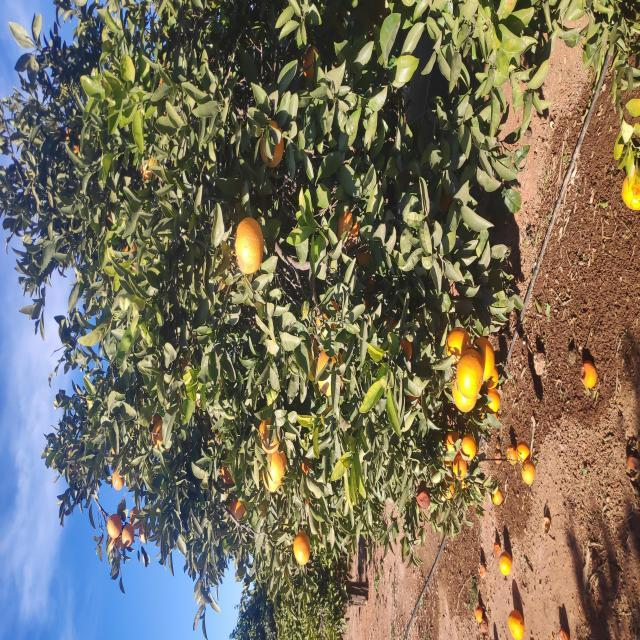Jeruk Sudah Matang: (366, 234, 422, 263), (242, 456, 289, 484), (245, 317, 293, 344), (473, 260, 521, 284), (298, 316, 342, 340), (274, 446, 314, 472), (258, 472, 304, 494), (228, 452, 266, 478), (392, 336, 432, 360), (186, 150, 228, 171), (187, 258, 222, 282), (560, 302, 596, 320), (159, 266, 191, 286), (74, 293, 108, 311), (460, 140, 490, 158), (1, 508, 30, 524), (226, 482, 251, 500), (148, 262, 170, 282), (179, 460, 206, 476), (486, 65, 514, 80), (159, 452, 187, 467), (253, 580, 278, 596), (101, 107, 127, 122), (251, 484, 276, 499), (121, 230, 143, 247), (92, 122, 117, 136), (185, 446, 209, 460), (64, 498, 88, 512), (157, 521, 180, 535), (110, 129, 134, 142), (151, 112, 175, 125), (140, 442, 164, 455), (176, 516, 198, 530), (98, 138, 119, 151), (282, 399, 302, 412), (376, 354, 389, 372), (309, 382, 323, 398), (156, 222, 174, 234), (175, 507, 195, 517), (88, 109, 105, 120), (134, 493, 152, 502), (386, 124, 398, 136), (18, 476, 35, 484), (413, 105, 428, 112), (171, 444, 184, 452)
